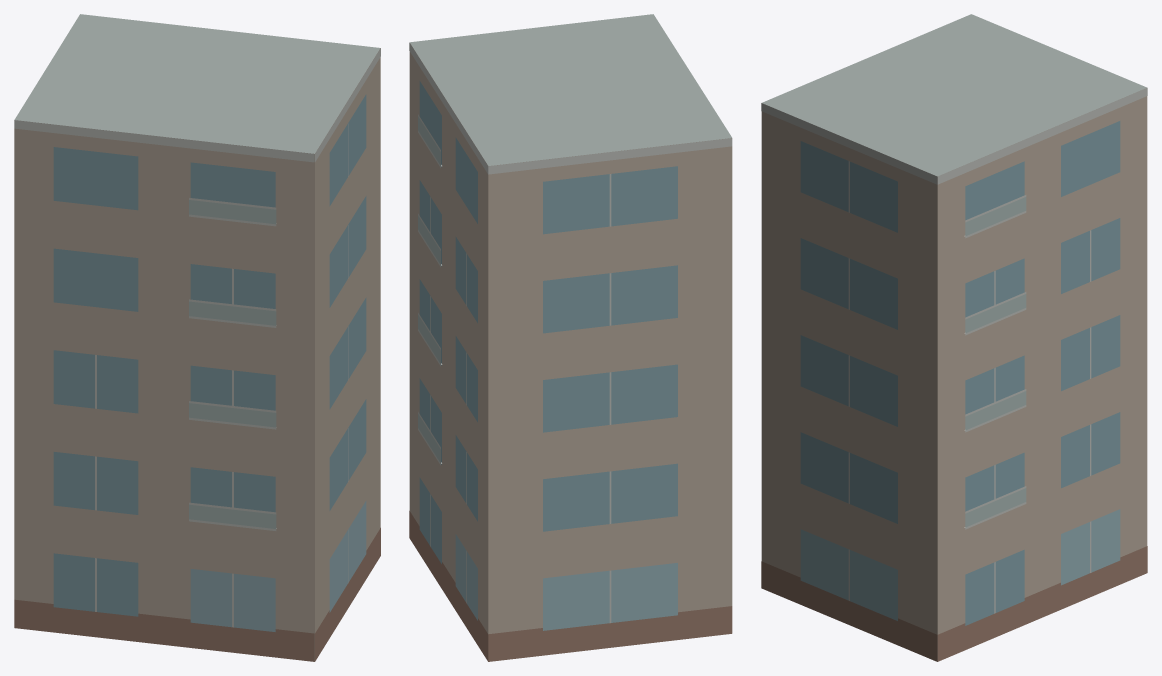
Rendered from survey-upis-32647167.glb.
The picture shows the model from 3 angles, left to right: view 1: azimuth 30°, elevation 25°; view 2: azimuth 150°, elevation 25°; view 3: azimuth 270°, elevation 25°; orthographic projection. The views are drawn at different scales.
Visible parts, largest first — view 1: survey-upis-32647167.tmp; view 2: survey-upis-32647167.tmp; view 3: survey-upis-32647167.tmp.
Boxes of the visible parts, <box> form: survey-upis-32647167.tmp: <box>14,14,380,661</box>; survey-upis-32647167.tmp: <box>409,14,732,661</box>; survey-upis-32647167.tmp: <box>761,14,1147,661</box>.
Size of the model in its own units: 10.31 by 14.35 by 10.35.
